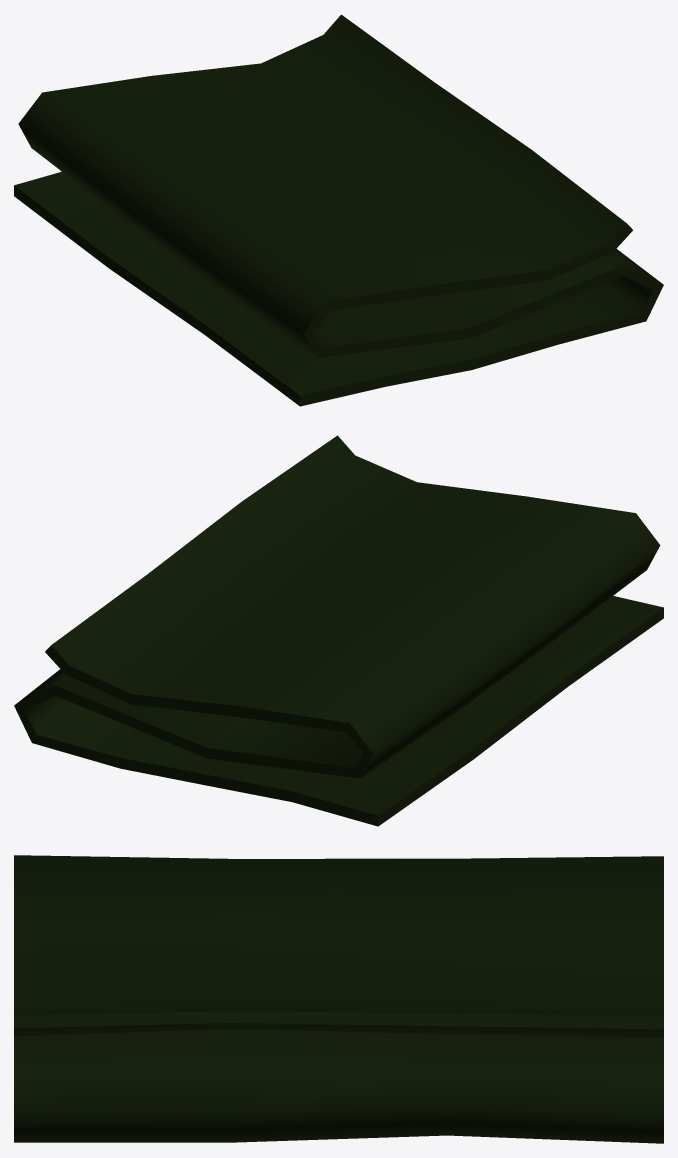
File: nori.fbx
The picture shows the model from 3 angles, top to bottom: view 1: azimuth 30°, elevation 25°; view 2: azimuth 150°, elevation 25°; view 3: azimuth 270°, elevation 25°; orthographic projection. The views are drawn at different scales.
Visible parts, largest first — view 1: Nori; view 2: Nori; view 3: Nori.
Part boxes in pixels (x1=…): Nori: x1=14, y1=14, x2=663, y2=406; Nori: x1=14, y1=435, x2=663, y2=826; Nori: x1=14, y1=855, x2=663, y2=1143.
Bounding box in the file's own units: 95.25 × 28.91 × 129.
